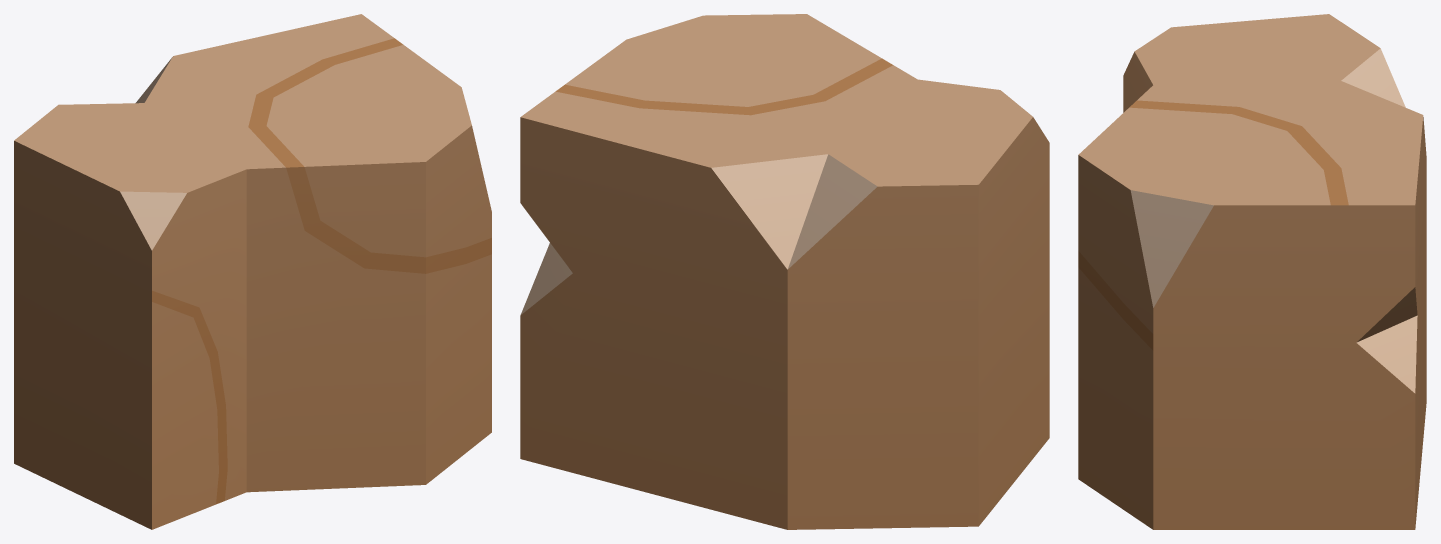
File: ancient-stone-9.glb
3 renders of one model, left to right at view 1: azimuth 30°, elevation 25°; view 2: azimuth 150°, elevation 25°; view 3: azimuth 270°, elevation 25°, orthographic. The views are drawn at different scales.
Visible parts, largest first — view 1: ancient stone 9; view 2: ancient stone 9; view 3: ancient stone 9.
Part boxes in pixels (x1=…): ancient stone 9: x1=14, y1=14, x2=491, y2=529; ancient stone 9: x1=520, y1=14, x2=1049, y2=529; ancient stone 9: x1=1078, y1=14, x2=1426, y2=529.
Size of the model in its own units: 3.07 by 2.43 by 2.36.
Materials: 1 (1 with a texture image).
